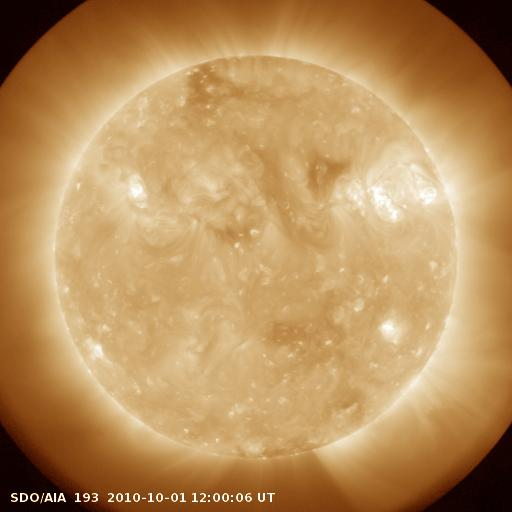coronal_hole: (179, 59, 246, 124), (302, 147, 352, 203)
